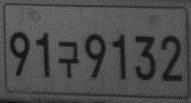1: (109, 34, 127, 81), (34, 31, 51, 78)
2: (158, 34, 185, 83)
3: (133, 34, 156, 80)
9: (83, 33, 107, 79), (9, 31, 30, 78)
구: (55, 40, 80, 78)
